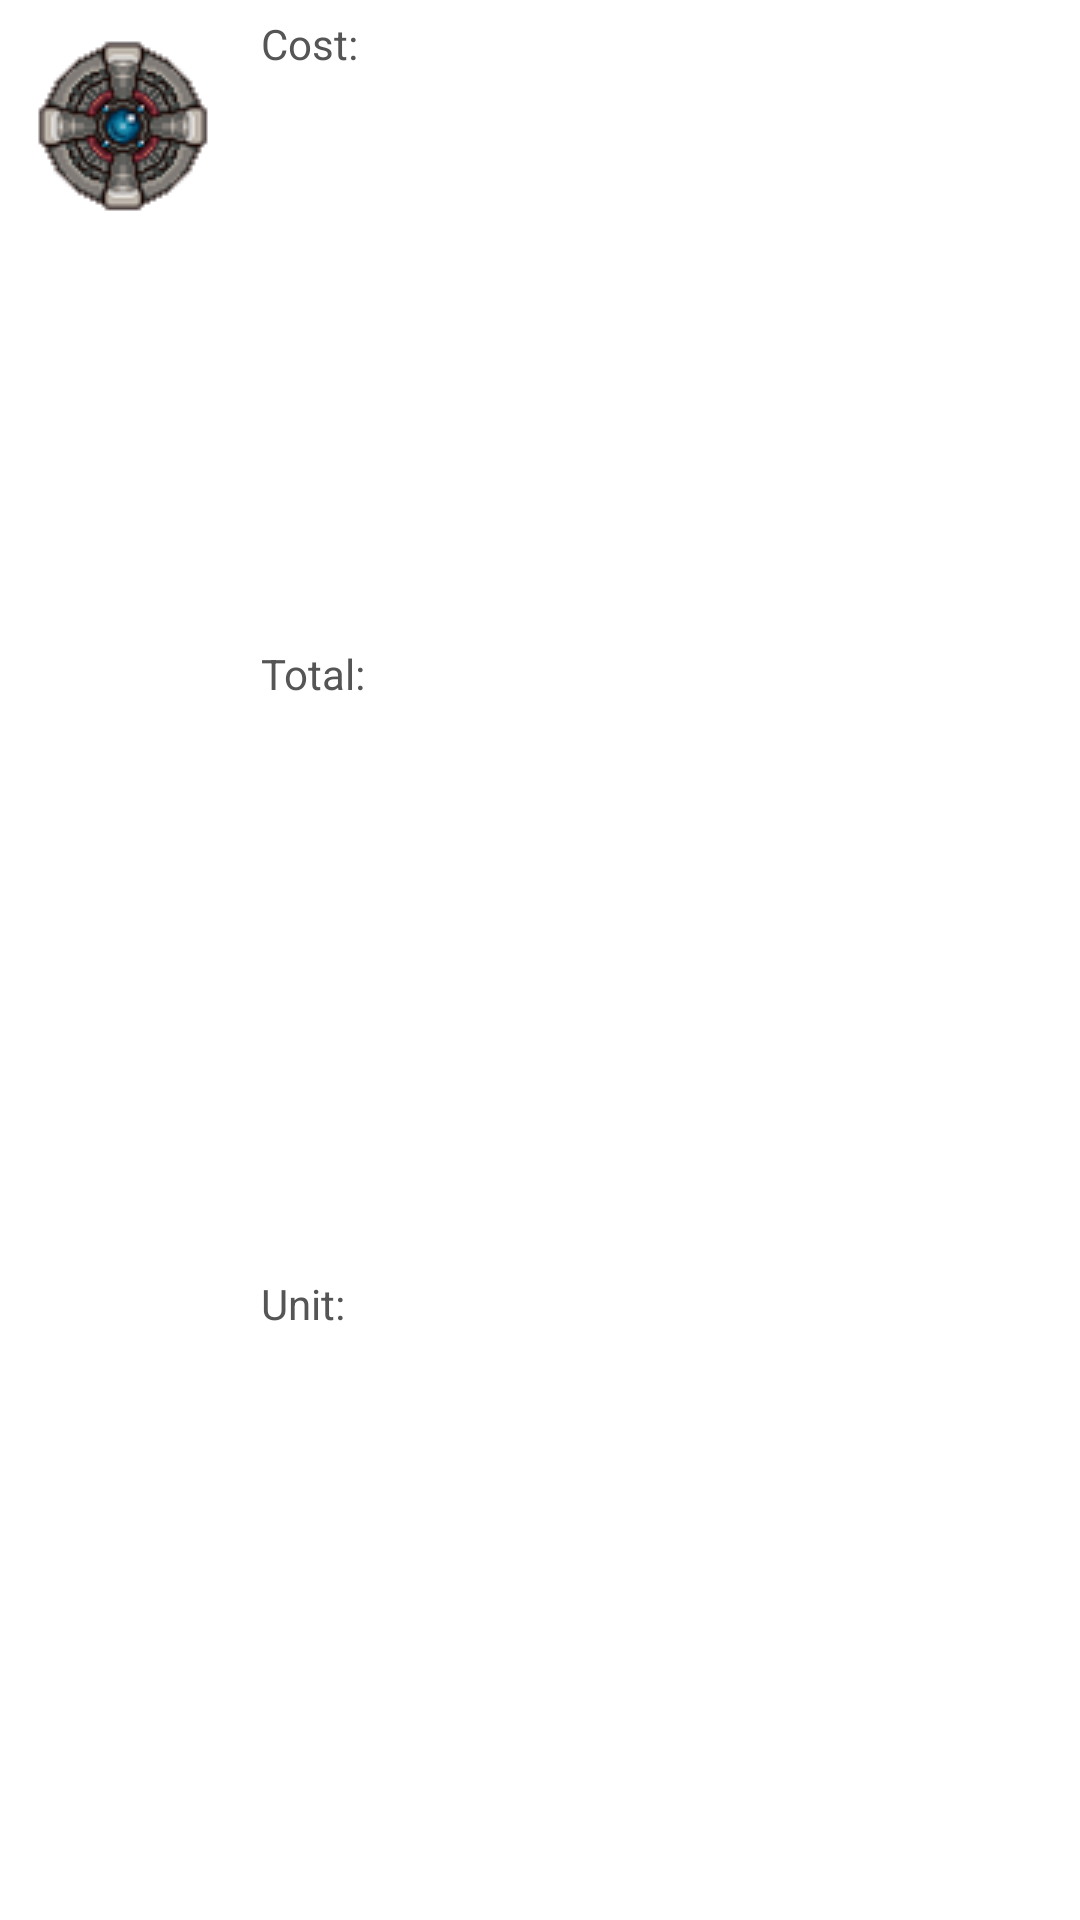

Screen size 1080w x 1920h. Icon name, then its center in pixels as point (x, y):
building: point (123, 126)
